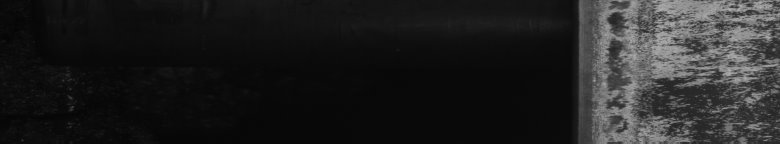kb: (593, 4, 776, 136)
